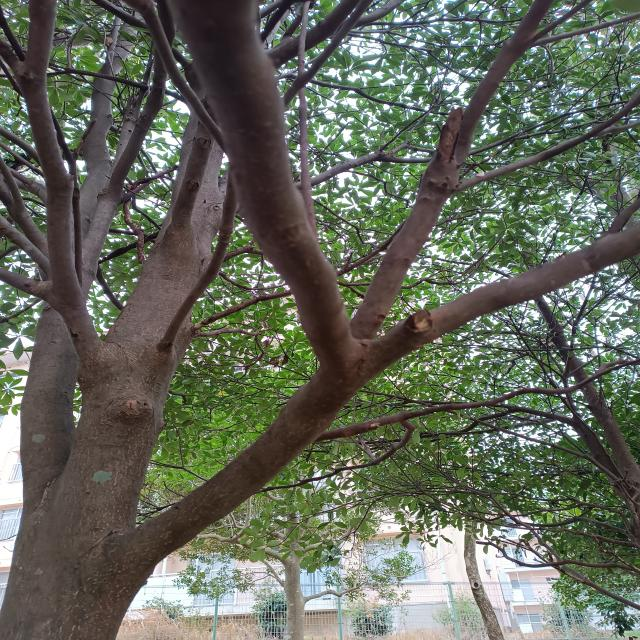Branch: (41, 76, 236, 527), (171, 0, 356, 372), (134, 363, 366, 580), (22, 300, 74, 511)
Twig: (349, 0, 556, 341), (349, 227, 638, 380), (5, 0, 99, 354), (76, 1, 172, 331), (455, 94, 637, 189), (282, 0, 371, 107), (296, 141, 433, 190), (273, 0, 363, 68), (1, 164, 47, 257), (533, 11, 640, 47), (0, 213, 54, 273), (537, 0, 593, 37), (0, 263, 45, 297), (601, 197, 640, 236), (357, 0, 405, 27)
